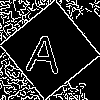A: (25, 25, 64, 74)
